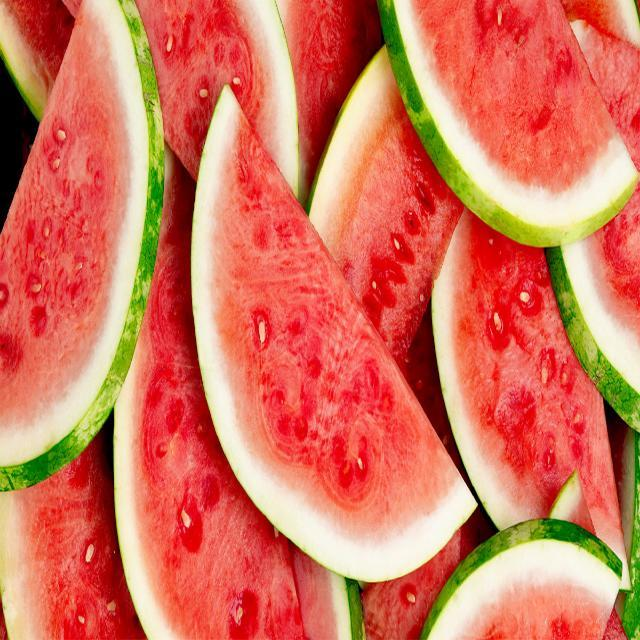WATERMELON: (190, 82, 480, 568), (113, 132, 307, 640), (0, 3, 165, 490), (431, 212, 640, 591), (379, 0, 640, 248), (308, 41, 468, 362), (547, 0, 640, 429), (133, 0, 306, 204), (0, 387, 139, 640), (417, 519, 623, 640), (276, 1, 392, 212)
